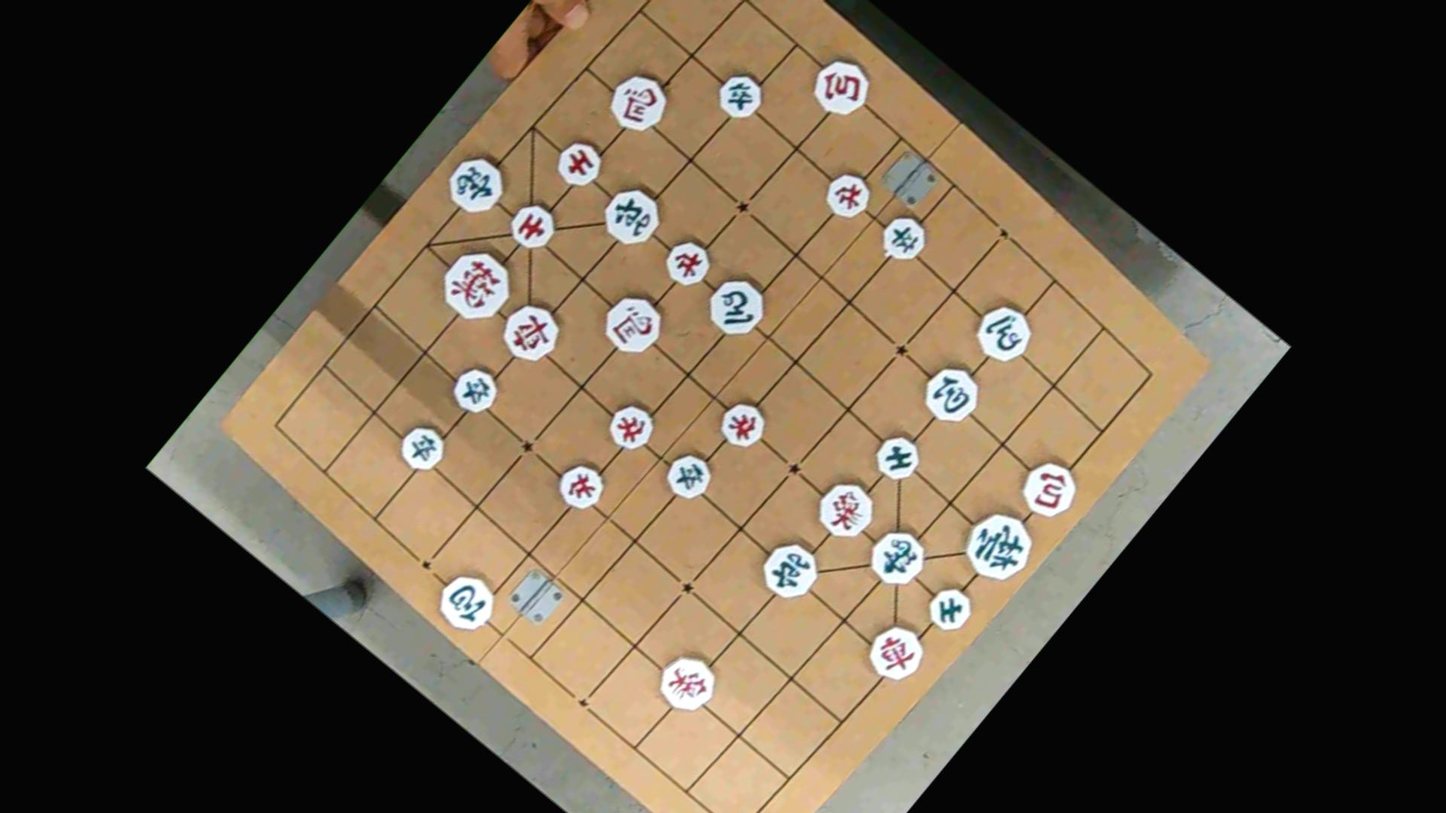cha_green: (752, 531, 829, 607), (594, 177, 671, 253)
cha_red: (493, 292, 570, 370), (857, 614, 933, 689)
jol_green: (655, 444, 718, 507), (442, 358, 503, 419), (389, 416, 450, 477), (871, 209, 932, 269), (709, 65, 769, 126)
jol_red: (549, 454, 612, 516), (816, 163, 877, 224), (654, 230, 715, 290), (600, 395, 661, 455), (711, 394, 771, 455)
ma_green: (962, 292, 1042, 370), (695, 266, 774, 344)
ma_red: (589, 282, 673, 364), (600, 65, 674, 139)
po_green: (428, 561, 505, 635), (912, 357, 986, 430)
po_red: (800, 47, 876, 123), (1009, 452, 1084, 526)
sa_green: (864, 425, 931, 490), (922, 578, 981, 635)
sa_red: (499, 193, 566, 259), (545, 133, 606, 194)
sang_green: (857, 518, 933, 592), (438, 149, 511, 221)
sang_red: (805, 470, 883, 546), (646, 646, 721, 720)
wang_green: (951, 499, 1042, 589)
wang_red: (430, 239, 521, 330)
